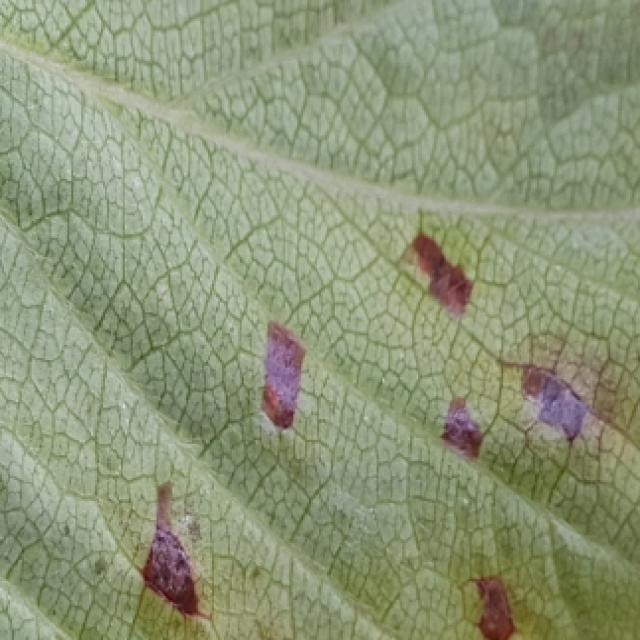Angular Leafspot: (40, 219, 640, 640)
